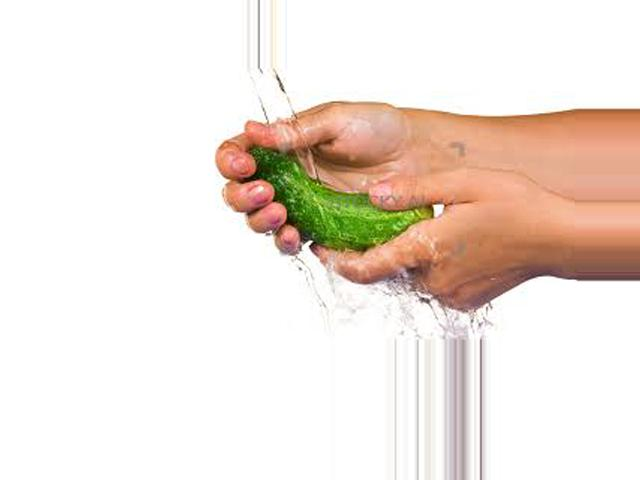cucumber: (248, 146, 435, 253)
